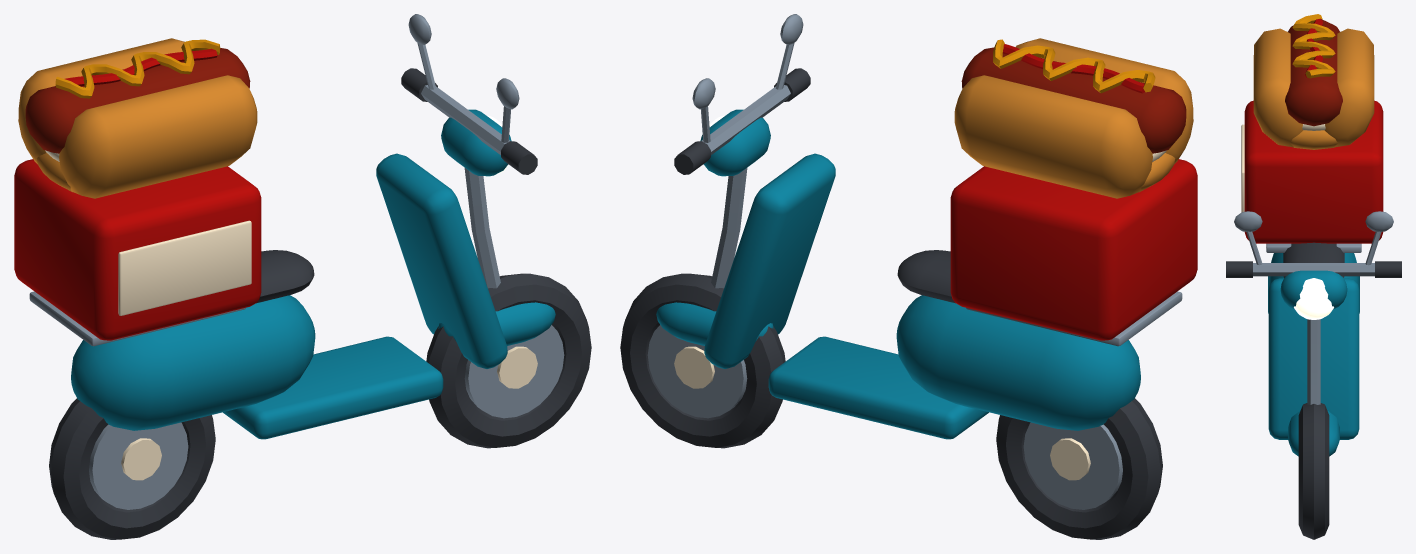
The model's file is DeliveryBike.fbx.
The picture shows the model from 3 angles, left to right: view 1: azimuth 30°, elevation 25°; view 2: azimuth 150°, elevation 25°; view 3: azimuth 270°, elevation 25°; orthographic projection. The views are drawn at different scales.
Visible parts, largest first — view 1: DeliveryBike; view 2: DeliveryBike; view 3: DeliveryBike.
Boxes of the visible parts, bbox=[...] form: DeliveryBike: bbox=[14, 14, 591, 539]; DeliveryBike: bbox=[620, 14, 1197, 539]; DeliveryBike: bbox=[1226, 14, 1401, 539].
Size of the model in its own units: 5.04 by 4.11 by 1.84.
